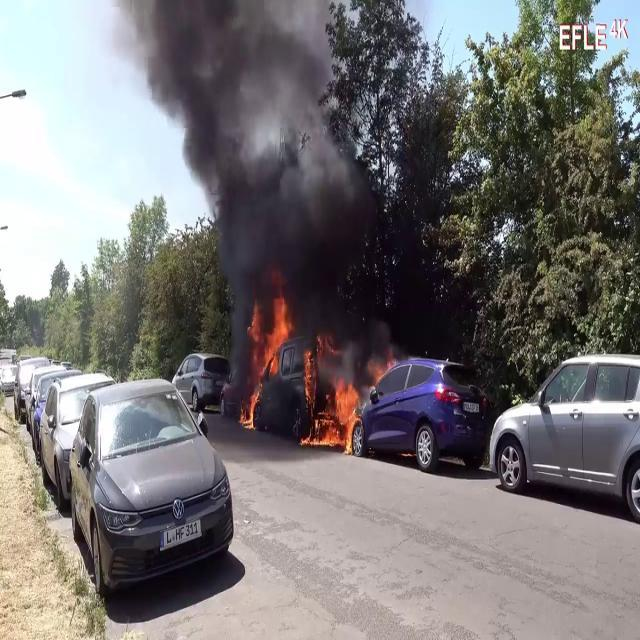Fire: (240, 288, 292, 431), (303, 371, 364, 454)
Smoke: (137, 2, 386, 336)
